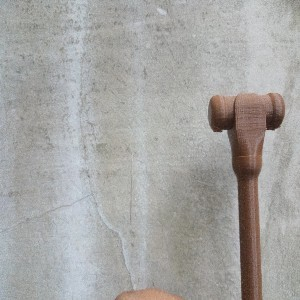palu: (207, 91, 286, 300)
